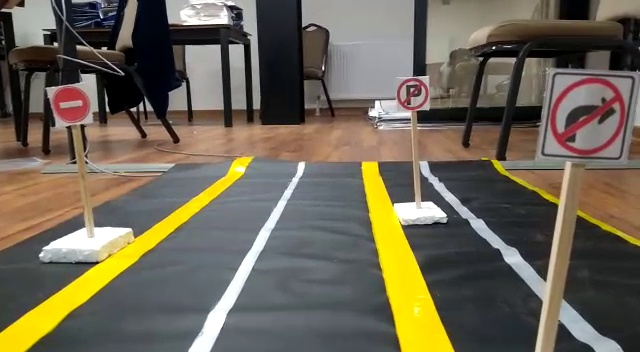girisi_olmayan_yol: (50, 85, 94, 123)
park_yapilmaz: (394, 76, 429, 111)
saga_donulmez: (550, 69, 623, 160)
